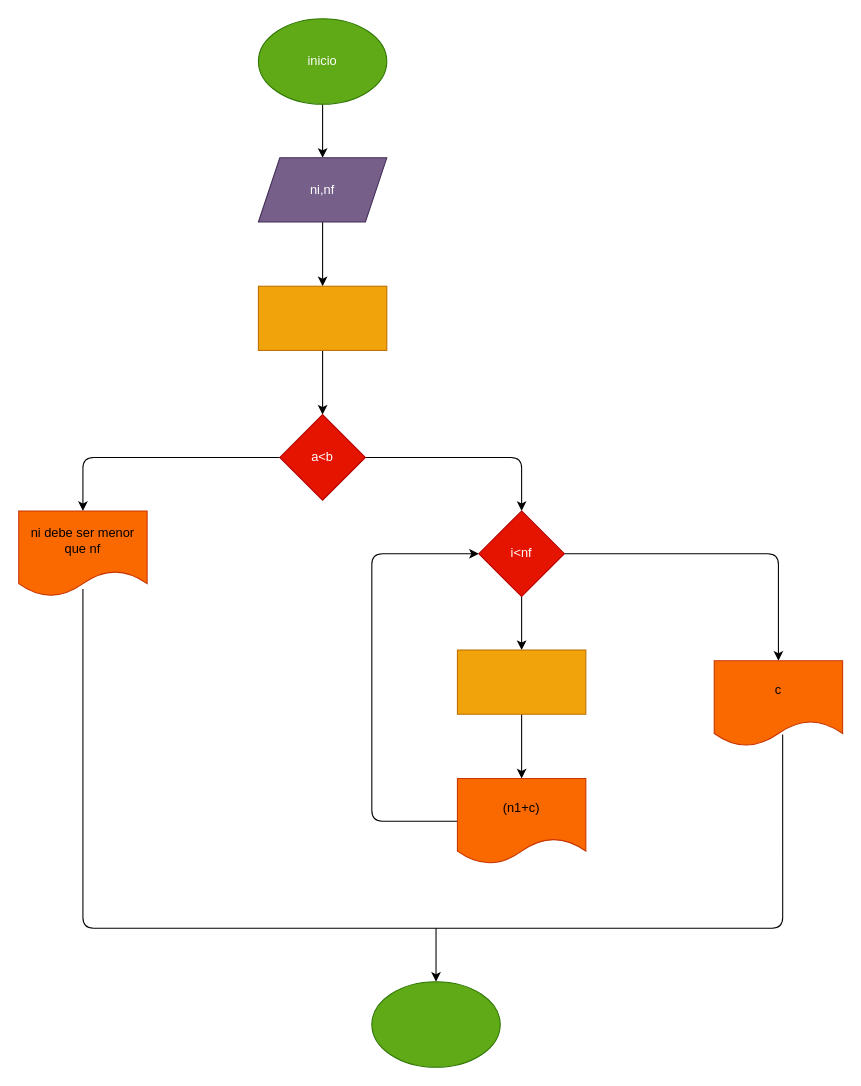
Some shapes in this 861 by 1086 pixel diagram are drawn without their labels. Here are the shapes that lost their labels. From the top down, the box of each, then its label:
(257, 285, 387, 350): i=ni+1 c=0
(456, 649, 586, 714): i=i+1 c=c+1
(371, 981, 500, 1067): fin
